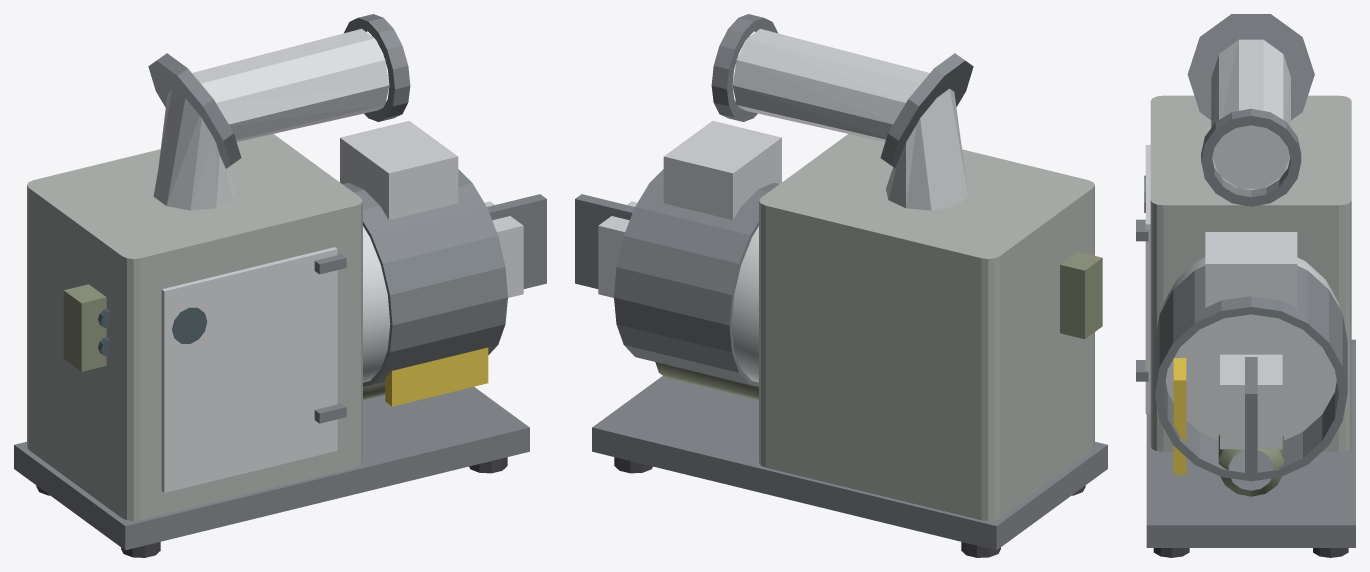
File: cold-war-missile-silo-and-command-bunker-capsule-air-h-21a600c2__15665.glb
3 views of the same model, side by side, from view 1: azimuth 30°, elevation 25°; view 2: azimuth 150°, elevation 25°; view 3: azimuth 270°, elevation 25° (orthographic). The views are drawn at different scales.
Visible parts, largest first — view 1: capsule-air-handling-unit; view 2: capsule-air-handling-unit; view 3: capsule-air-handling-unit.
Boxes of the visible parts, x1,y1,x2,y2 form: capsule-air-handling-unit: [14, 14, 546, 557]; capsule-air-handling-unit: [575, 14, 1107, 557]; capsule-air-handling-unit: [1136, 14, 1355, 557].
Size of the model in its own units: 2.56 by 2.18 by 1.05.
